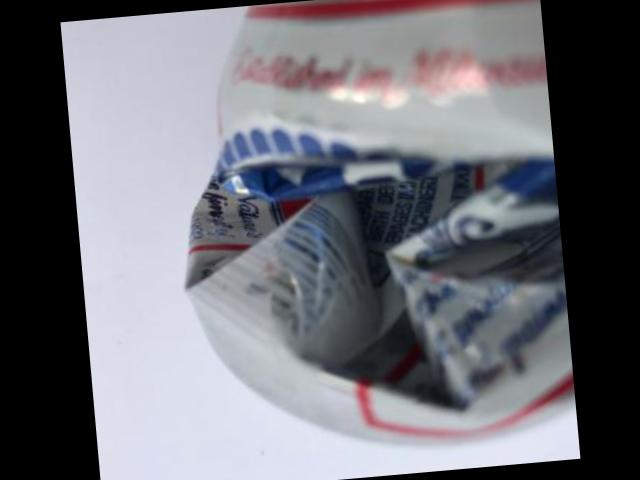metal: (185, 0, 574, 444)
